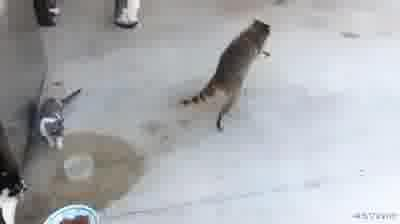raccoon: (174, 16, 275, 134)
